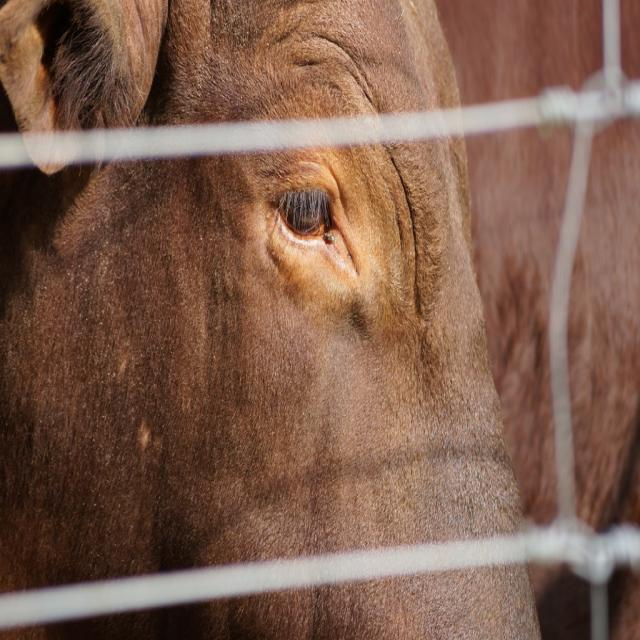Horse: (0, 0, 544, 639)
